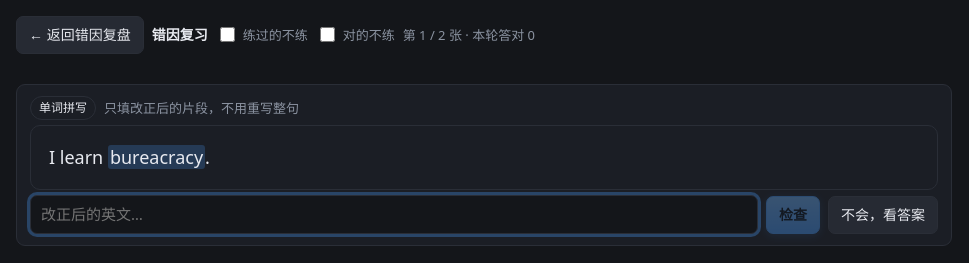
Test: GoldenErrorReview › 练过的不练：按 reviews 跳过已有复习记录的卡
Expected: the text "第 1 / 2 张 · 本轮答对 0" is shown, top-left (403, 25), bottom-right (535, 45)
Click the checkbox labelled "练过的不练" at (227, 35), box top-left (220, 27), bottom-right (235, 42)
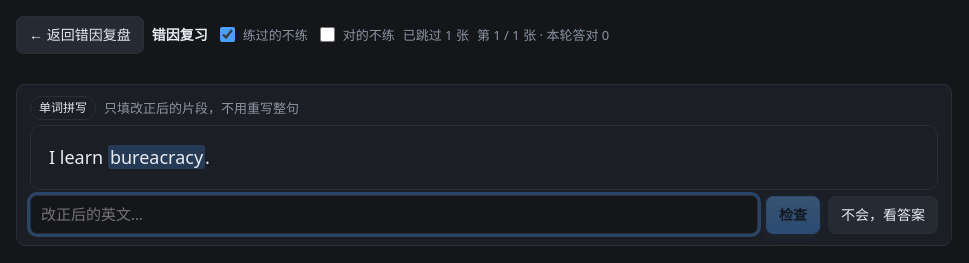
Expected: the text "第 1 / 1 张 · 本轮答对 0" is shown, top-left (477, 25), bottom-right (609, 45)
Expected: the text "已跳过 1 张" is shown, top-left (403, 25), bottom-right (469, 45)
